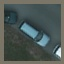car: (21, 21, 49, 46)
